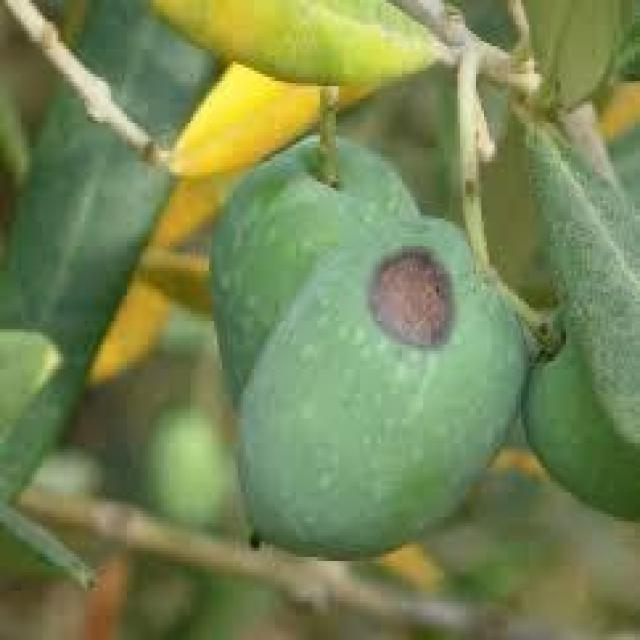Olive Fruit Fly: (238, 246, 524, 554)
